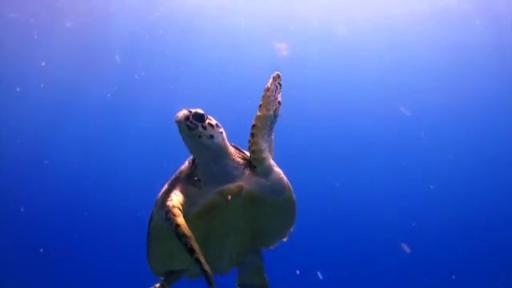Fish: (147, 72, 295, 287)
